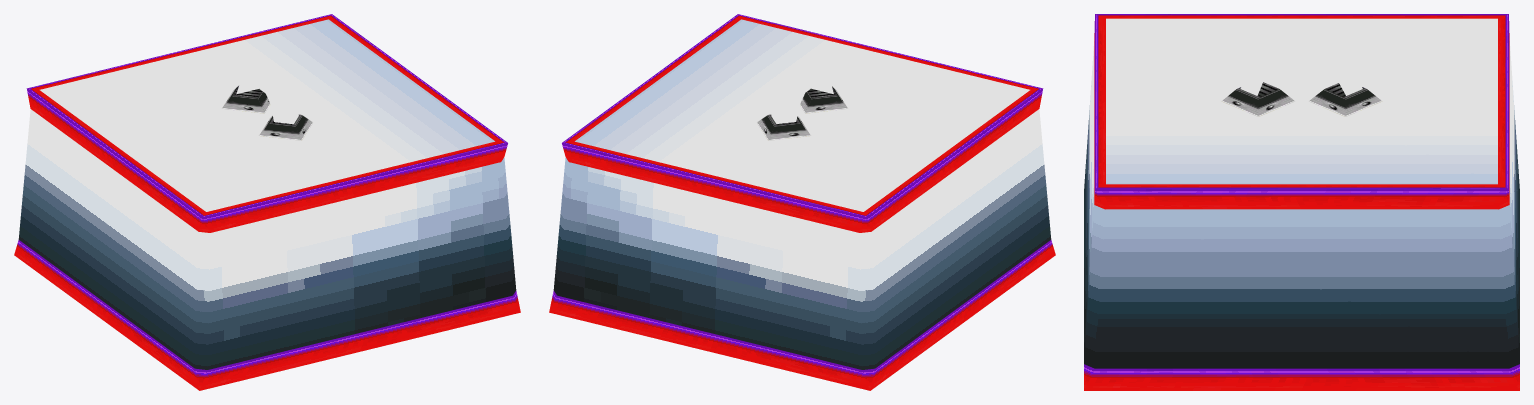
The model's file is Bunchin.obj.
3 views of the same model, side by side, from view 1: azimuth 30°, elevation 25°; view 2: azimuth 150°, elevation 25°; view 3: azimuth 270°, elevation 25° (orthographic). The views are drawn at different scales.
Size of the model in its own units: 40 by 25.48 by 40.
3 materials, 3 textured.
